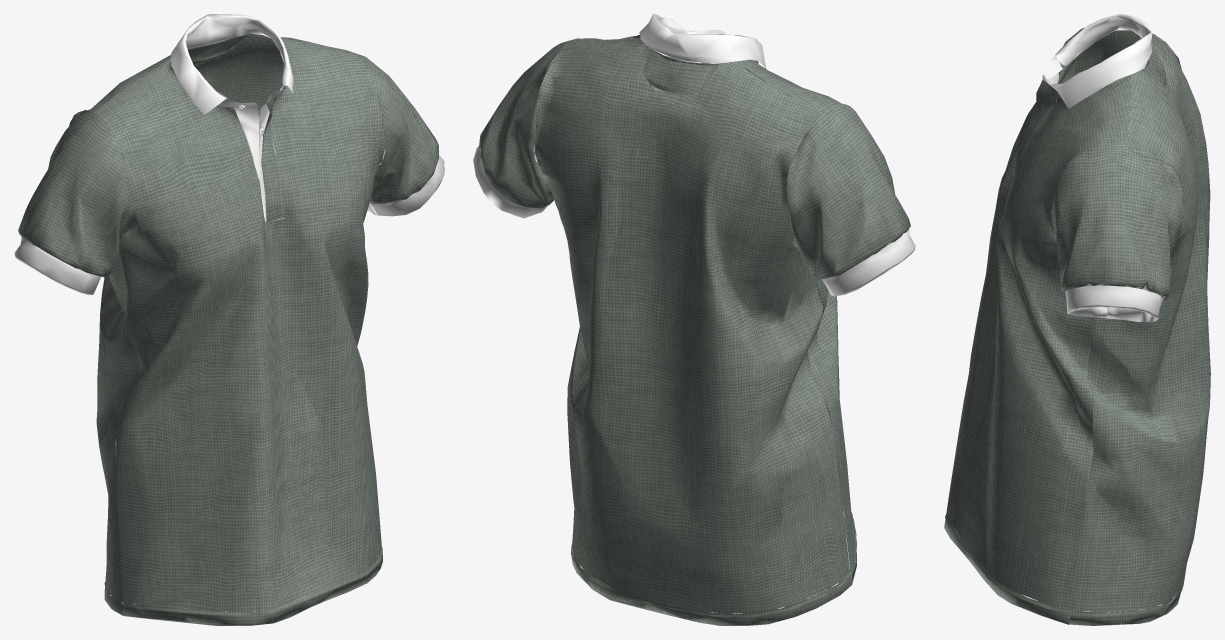
Rendered from SM_polo_shirt.glb.
3 views of the same model, side by side, from view 1: azimuth 30°, elevation 25°; view 2: azimuth 150°, elevation 25°; view 3: azimuth 270°, elevation 25° (orthographic). The views are drawn at different scales.
Parts seen in each view (by area): view 1: SM_polo_shirt; view 2: SM_polo_shirt; view 3: SM_polo_shirt.
Boxes of the visible parts, x1,y1,x2,y2 form: SM_polo_shirt: (14,14,444,625); SM_polo_shirt: (473,14,915,625); SM_polo_shirt: (944,14,1210,625).
Size of the model in its own units: 0.6058 by 0.7692 by 0.3382.
4 materials, 2 textured.
